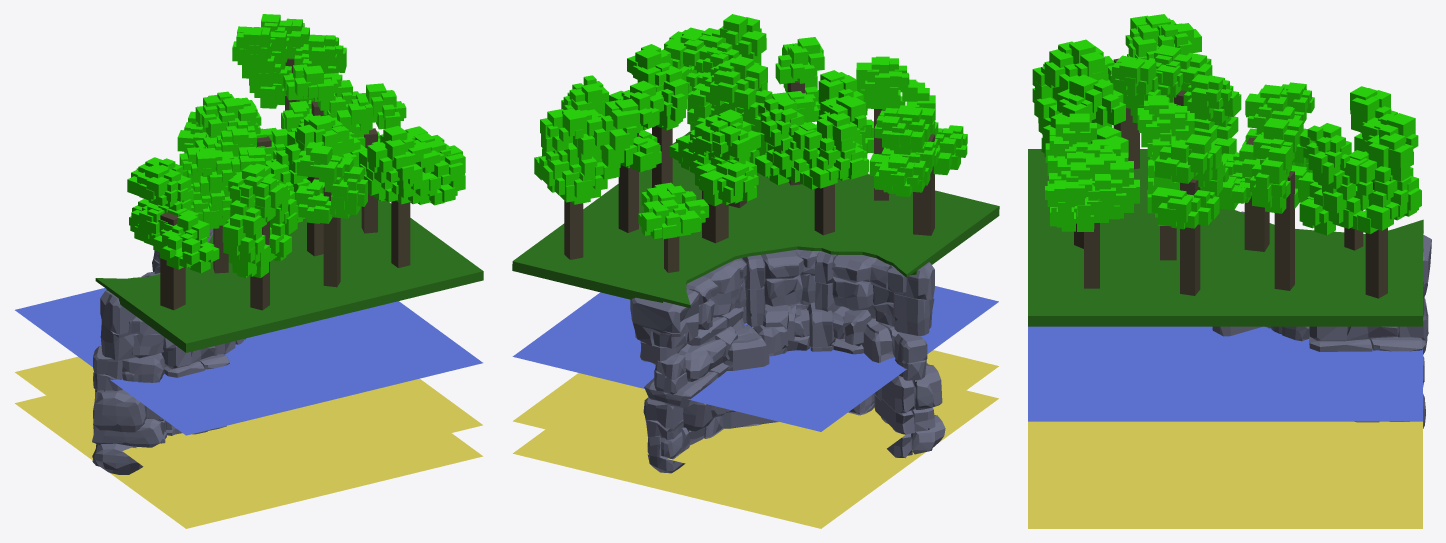
File: 47__tile.fbx
3 renders of one model, left to right at view 1: azimuth 30°, elevation 25°; view 2: azimuth 150°, elevation 25°; view 3: azimuth 270°, elevation 25°, orthographic. The views are drawn at different scales.
Visible parts, largest first — view 1: 47__tile; view 2: 47__tile; view 3: 47__tile.
Part boxes in pixels (x1,y1,x2,y2): 47__tile: (15, 14, 483, 528); 47__tile: (512, 14, 999, 528); 47__tile: (1028, 14, 1431, 528).
Bounding box in the file's own units: 213 × 218 × 205.
